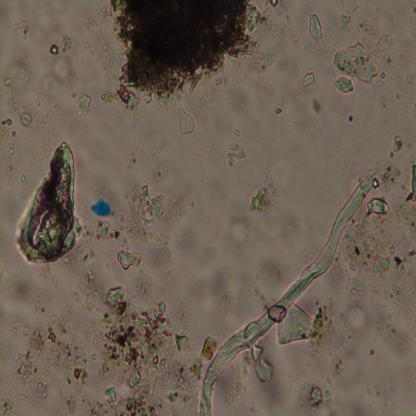Background material: (101, 0, 266, 108), (98, 286, 201, 415), (15, 144, 84, 266), (15, 315, 90, 412), (343, 230, 414, 296), (277, 308, 351, 358), (140, 233, 205, 287), (380, 295, 416, 370), (121, 183, 165, 243), (206, 266, 258, 316), (0, 57, 40, 119), (162, 173, 198, 237), (332, 44, 378, 94), (375, 72, 416, 120), (258, 204, 300, 248), (0, 261, 36, 307), (253, 346, 281, 404), (207, 85, 242, 130), (248, 173, 283, 215), (72, 266, 99, 313), (44, 58, 74, 100), (302, 378, 335, 414), (336, 351, 363, 390), (85, 218, 121, 247), (226, 211, 254, 248), (366, 382, 400, 412), (266, 1, 292, 38), (364, 197, 392, 231), (345, 298, 371, 332), (34, 110, 57, 146), (84, 10, 108, 43), (377, 34, 397, 72), (257, 264, 285, 291), (400, 0, 416, 47), (339, 1, 362, 32), (114, 248, 144, 270), (378, 166, 402, 192), (32, 4, 56, 29), (224, 142, 247, 168), (176, 108, 196, 136), (12, 14, 31, 41), (307, 14, 324, 44), (198, 336, 218, 361), (299, 67, 317, 92), (49, 38, 73, 56), (407, 160, 416, 206), (41, 266, 58, 290), (77, 95, 92, 119), (310, 96, 324, 120), (17, 110, 33, 129), (100, 176, 114, 197), (8, 130, 17, 158), (0, 396, 14, 414), (341, 110, 357, 125), (201, 146, 217, 159), (392, 136, 404, 153), (34, 296, 42, 314), (0, 117, 13, 127), (275, 107, 283, 115)
Cellulose filter fibre: (198, 176, 372, 415)
Fragment: (90, 198, 112, 218)
